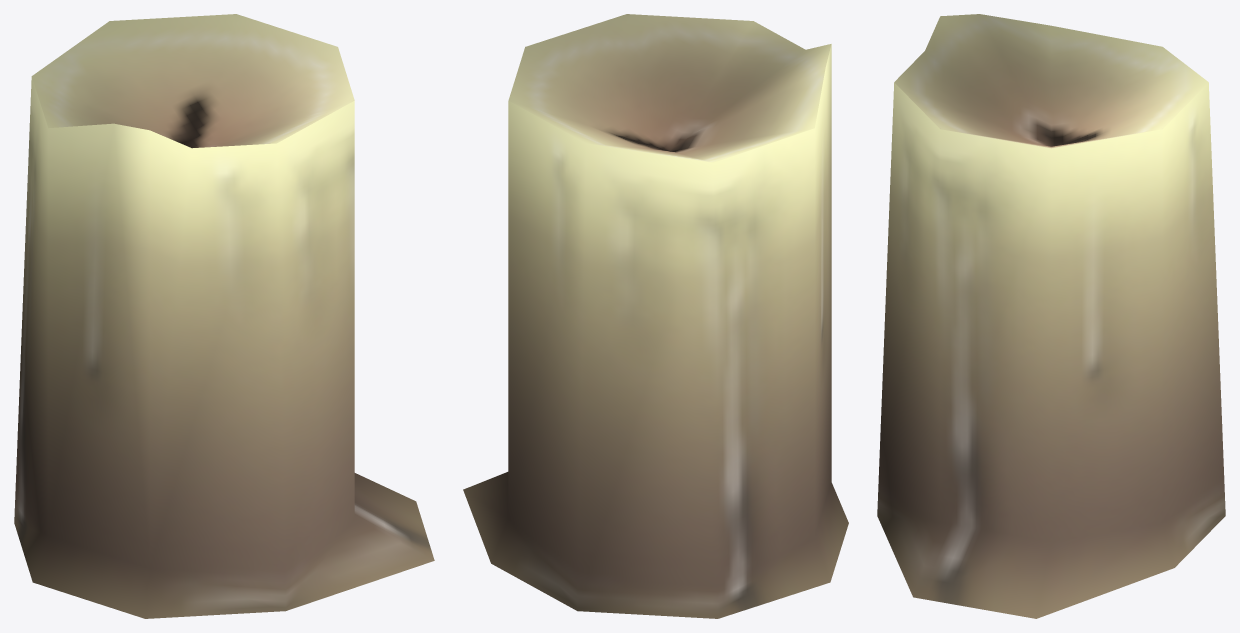
File: GY_lazhu001.fbx
3 renders of one model, left to right at view 1: azimuth 30°, elevation 25°; view 2: azimuth 150°, elevation 25°; view 3: azimuth 270°, elevation 25°, orthographic. The views are drawn at different scales.
Visible parts, largest first — view 1: GY_lazhu001; view 2: GY_lazhu001; view 3: GY_lazhu001.
Part boxes in pixels (x1=…): GY_lazhu001: x1=14, y1=14, x2=434, y2=618; GY_lazhu001: x1=463, y1=14, x2=848, y2=618; GY_lazhu001: x1=877, y1=14, x2=1225, y2=618.
Bounding box in the file's own units: 17.64 × 21.82 × 15.08.
